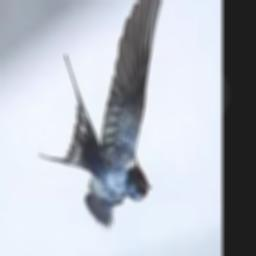Swallow: (39, 0, 174, 230)
